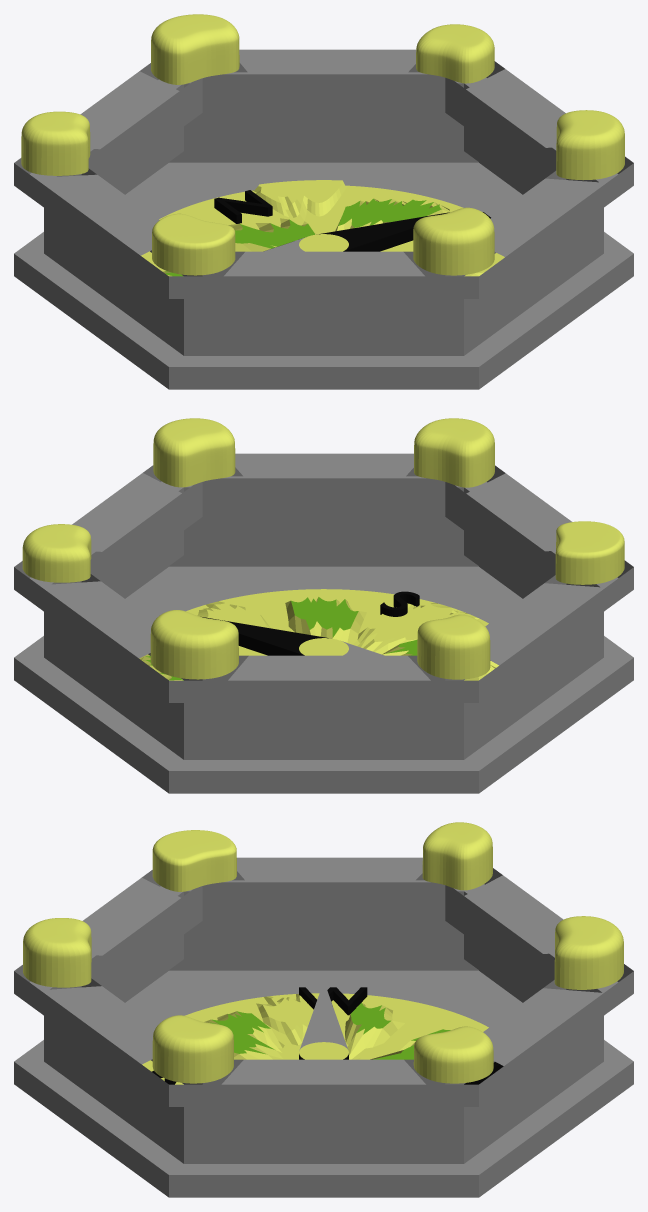
Rendered from compass1.fbx.
The picture shows the model from 3 angles, top to bottom: view 1: azimuth 30°, elevation 25°; view 2: azimuth 150°, elevation 25°; view 3: azimuth 270°, elevation 25°; orthographic projection.
Visible parts, largest first — view 1: Circle, Circle.003, Circle.001, Circle.002, Text; view 2: Circle, Circle.003, Circle.001, Circle.002, Text.003; view 3: Circle, Circle.003, Circle.001, Circle.002, Text.002.
Part boxes in pixels (x1,y1,x2,y2): Circle: (14, 49, 633, 389); Circle.003: (21, 14, 624, 275); Circle.001: (141, 180, 504, 276); Circle.002: (263, 212, 449, 251); Text: (214, 190, 272, 223); Circle: (14, 453, 633, 793); Circle.003: (22, 418, 624, 679); Circle.001: (139, 589, 498, 680); Circle.002: (202, 617, 384, 655); Text.003: (380, 591, 419, 616); Circle: (14, 857, 633, 1197); Circle.003: (23, 822, 623, 1083); Circle.001: (142, 993, 488, 1084); Circle.002: (299, 981, 348, 1059); Text.002: (299, 987, 367, 1015).
Size of the model in its own units: 173 by 54.68 by 200.
